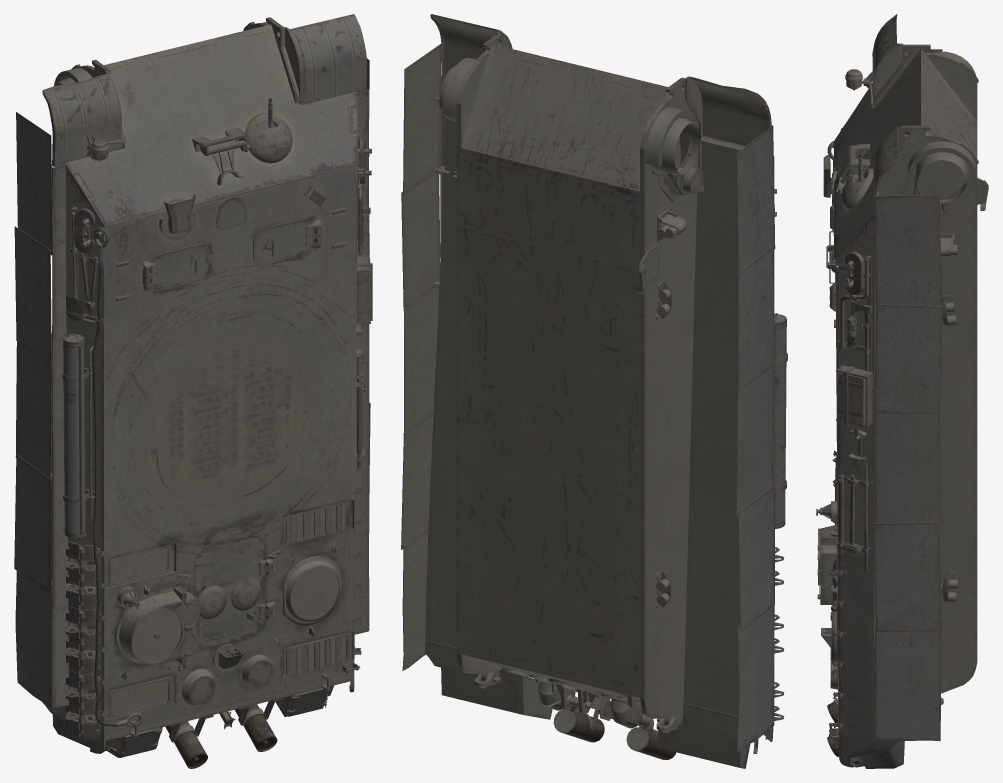
File: Hull.glb
The picture shows the model from 3 angles, left to right: view 1: azimuth 30°, elevation 25°; view 2: azimuth 150°, elevation 25°; view 3: azimuth 270°, elevation 25°; orthographic projection. The views are drawn at different scales.
Visible parts, largest first — view 1: set_0_group_0; view 2: set_0_group_0; view 3: set_0_group_0.
Boxes of the visible parts, left/top/right/bottom form: set_0_group_0: left=14, top=14, right=372, bottom=768; set_0_group_0: left=401, top=14, right=787, bottom=768; set_0_group_0: left=816, top=14, right=988, bottom=768.
Bounding box in the file's own units: 3.46 × 7.05 × 1.69.
1 material, 1 textured.
